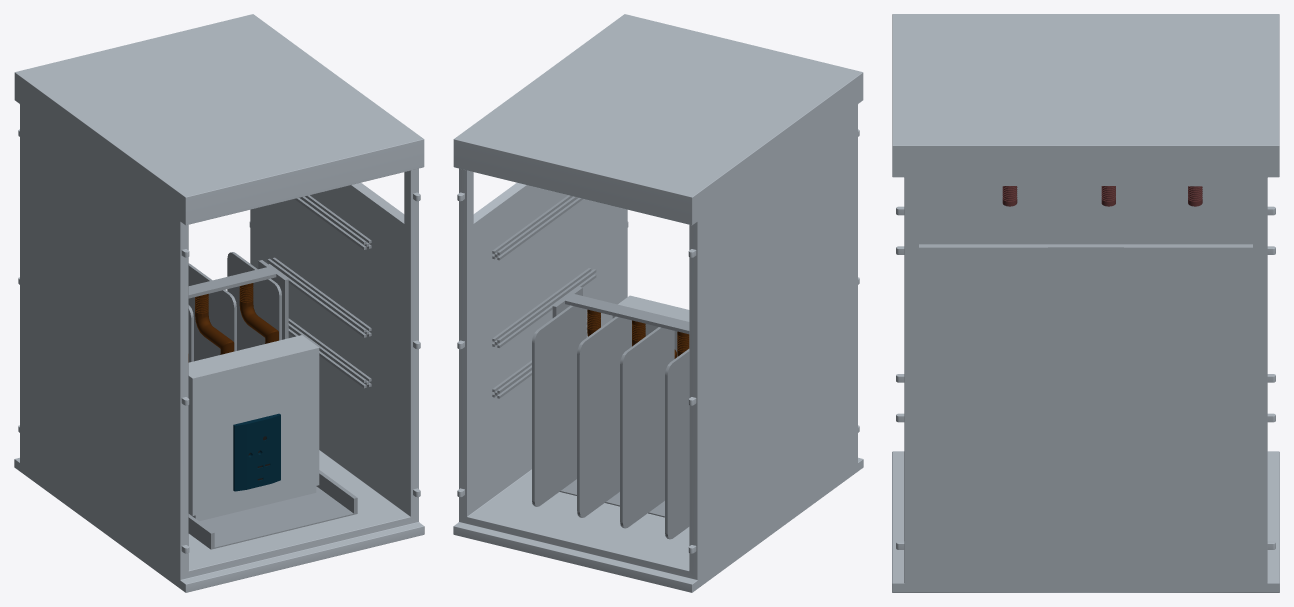
File: VCB_ALL.fbx
3 renders of one model, left to right at view 1: azimuth 30°, elevation 25°; view 2: azimuth 150°, elevation 25°; view 3: azimuth 270°, elevation 25°, orthographic. The views are drawn at different scales.
Parts seen in each view (by area): view 1: vcb; view 2: vcb; view 3: vcb.
Boxes of the visible parts, x1,y1,x2,y2 form: vcb: [14, 14, 424, 592]; vcb: [453, 14, 863, 592]; vcb: [892, 14, 1279, 592].
Size of the model in its own units: 1.29 by 2.04 by 1.61.
2 materials, 1 textured.
